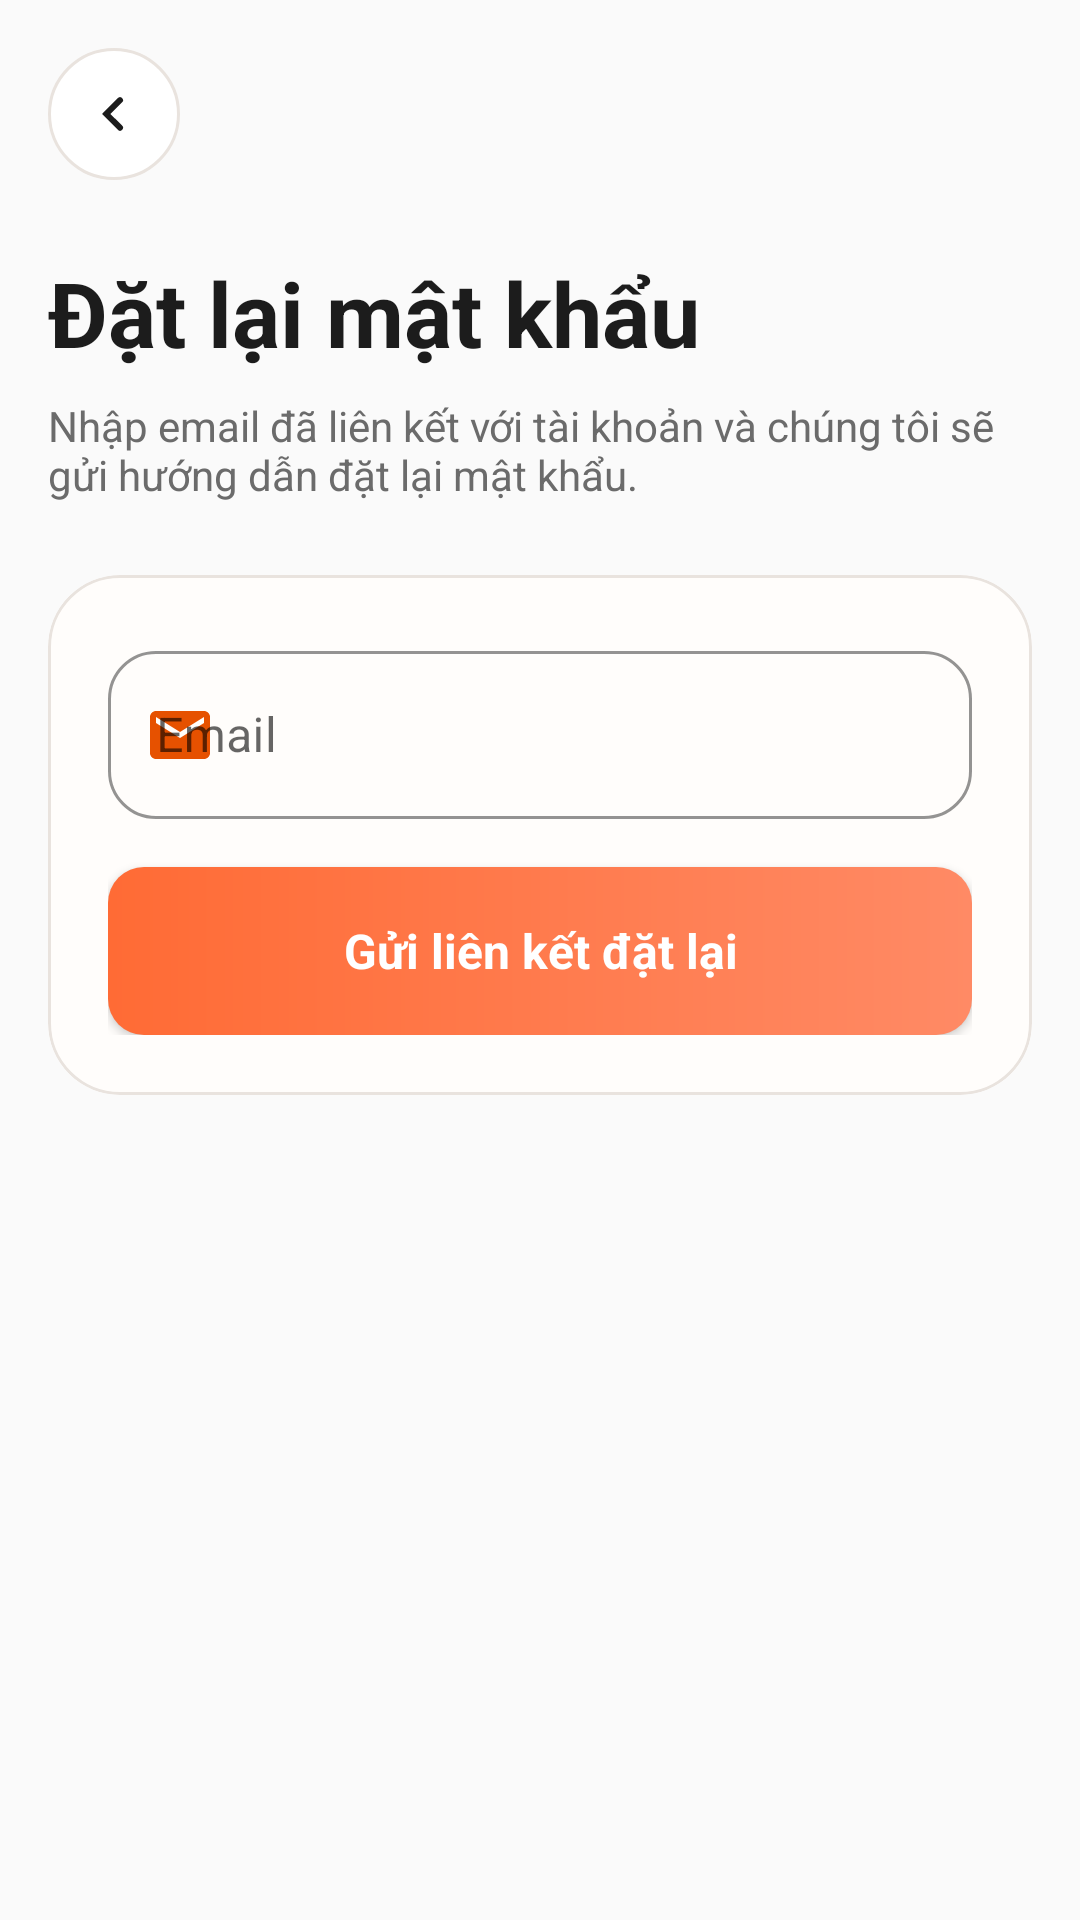

Icons on this 1080w x 1920h Android screen, each with its box as Rect(x1, y1, x2, y2):
Quay lại: Rect(48, 48, 180, 180)
